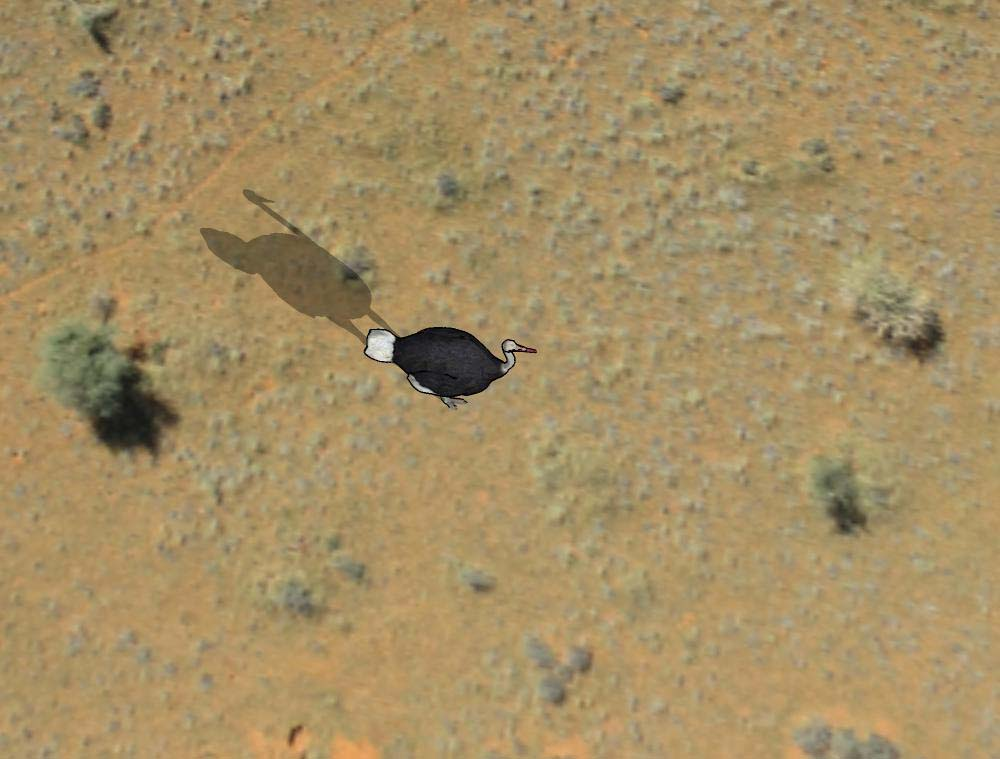ostrich: (361, 318, 539, 413)
